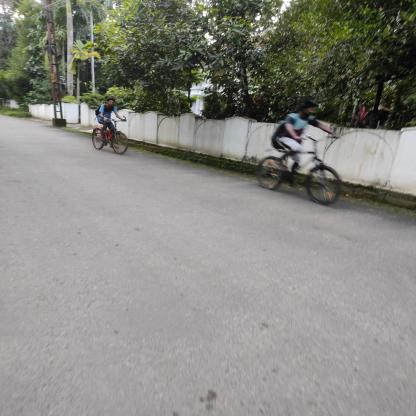bicycle: (245, 129, 364, 217), (79, 113, 141, 154)
